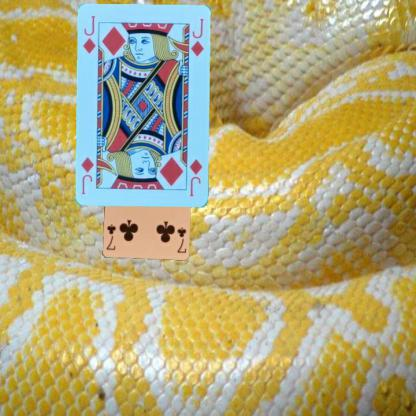7c: (174, 224, 186, 254)
Jd: (187, 157, 204, 198), (81, 14, 98, 55)
